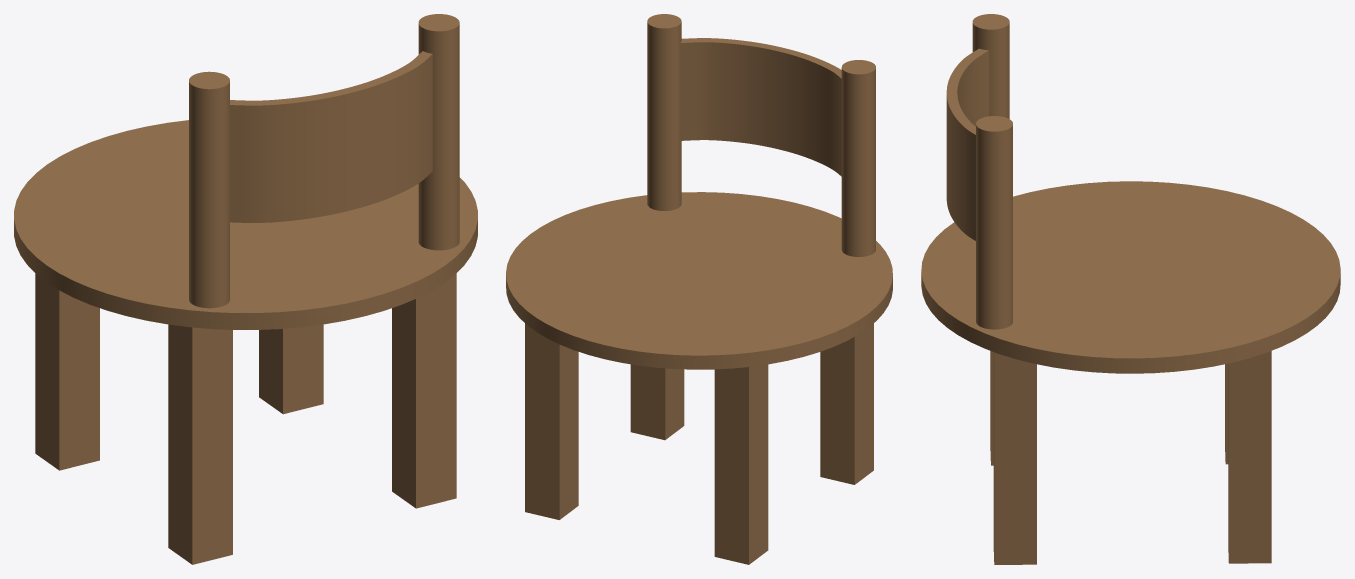
The picture shows the model from 3 angles, left to right: view 1: azimuth 30°, elevation 25°; view 2: azimuth 150°, elevation 25°; view 3: azimuth 270°, elevation 25°; orthographic projection. The views are drawn at different scales.
Visible parts, largest first — view 1: chair; view 2: chair; view 3: chair.
Boxes of the visible parts, x1,y1,x2,y2 form: chair: [14, 14, 477, 564]; chair: [506, 14, 892, 564]; chair: [921, 14, 1340, 564].
Bounding box in the file's own units: 0.7452 × 0.85 × 0.7452.
